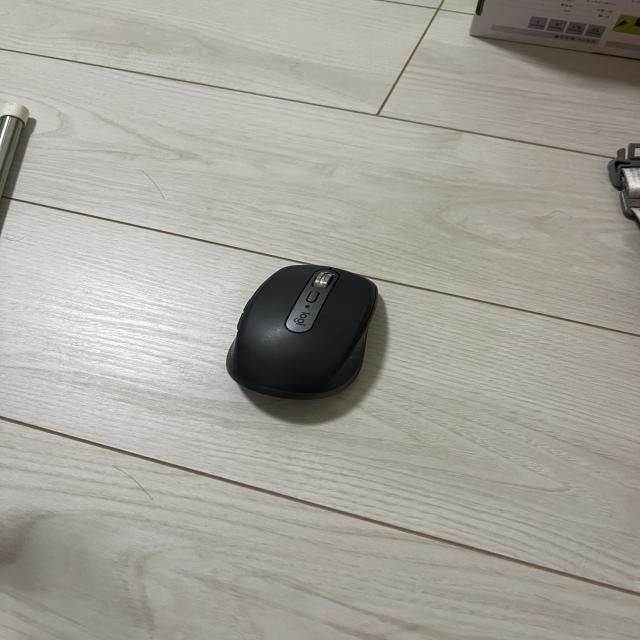mouse: (230, 266, 378, 398)
